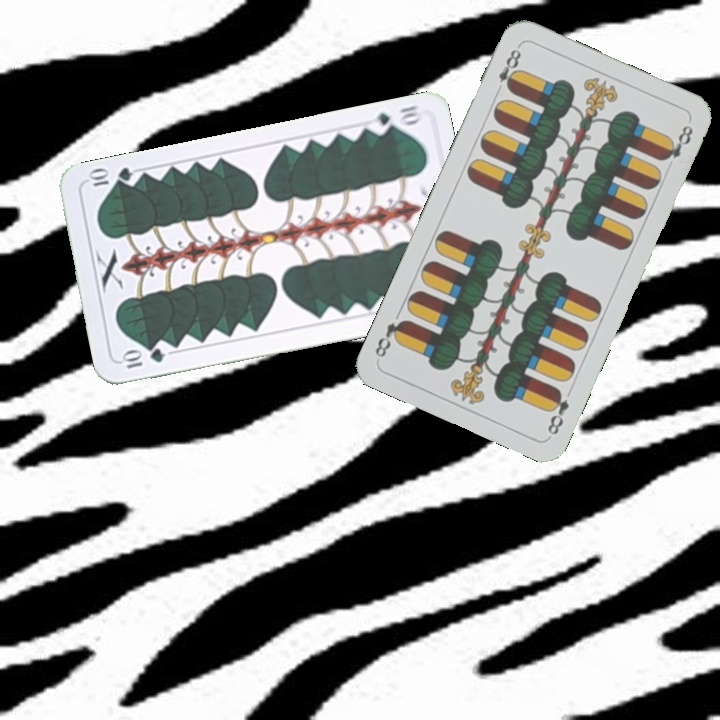E8: (491, 42, 524, 97), (543, 384, 572, 438)
G10: (364, 101, 424, 137), (117, 344, 167, 371)
